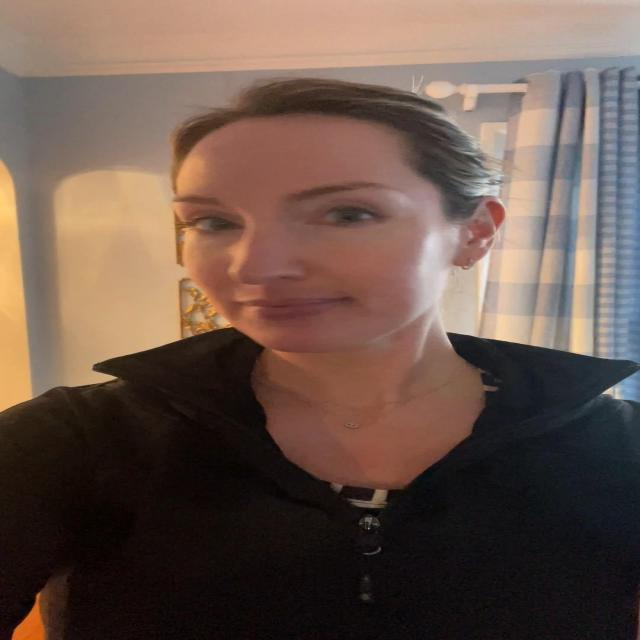no hat: (171, 104, 474, 376)
